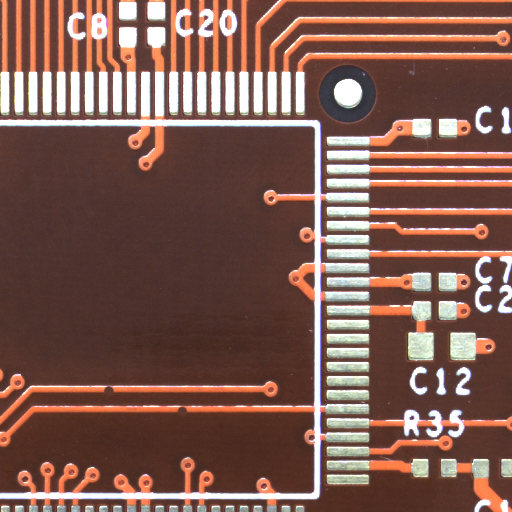Mouse_bite: (181, 409, 198, 421), (107, 390, 123, 401)
